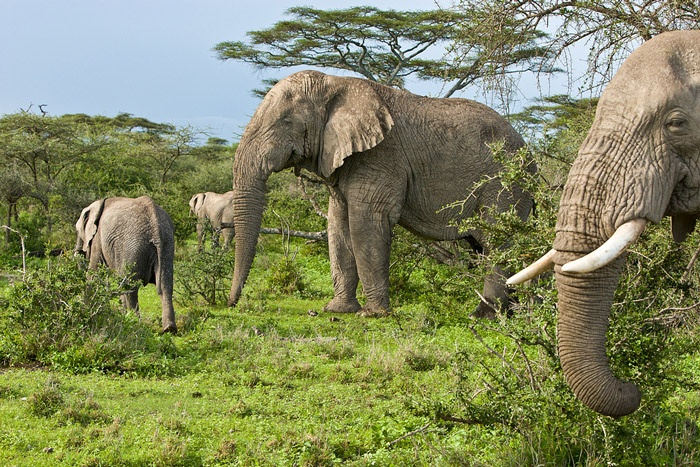elephant: (219, 67, 547, 326), (503, 21, 700, 427), (72, 192, 182, 338), (188, 183, 249, 256)
